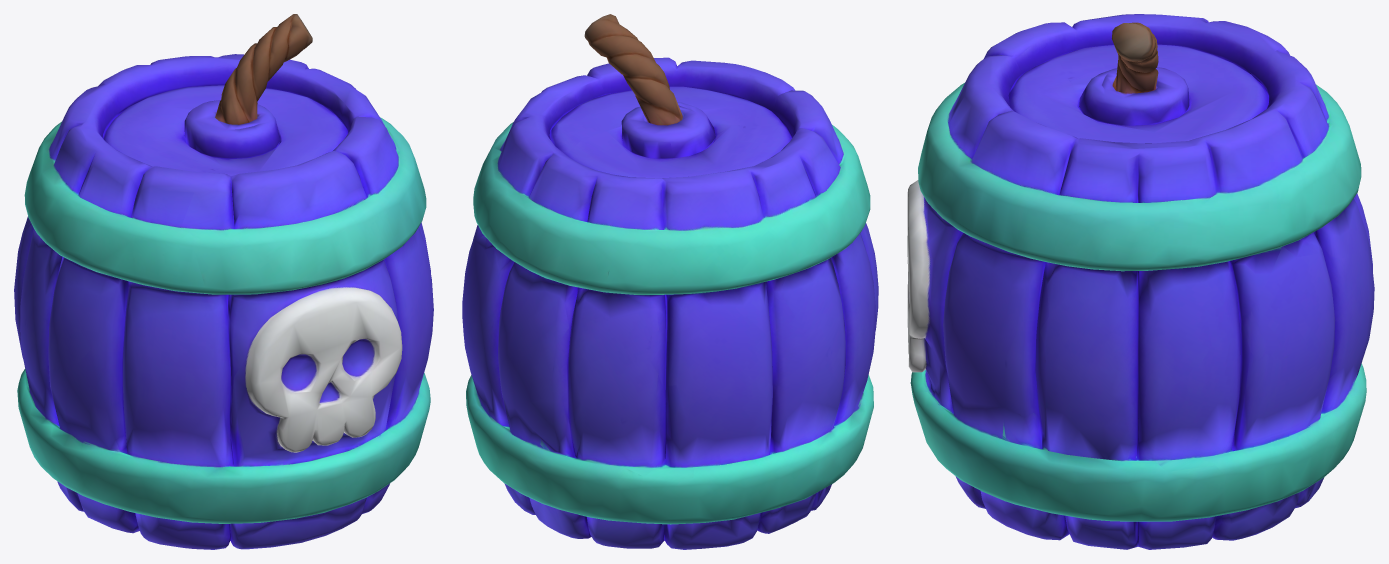
Rendered from keg.glb.
3 renders of one model, left to right at view 1: azimuth 30°, elevation 25°; view 2: azimuth 150°, elevation 25°; view 3: azimuth 270°, elevation 25°, orthographic. The views are drawn at different scales.
Parts seen in each view (by area): view 1: keg; view 2: keg; view 3: keg.
Part boxes in pixels (<box>): keg: <box>14,14,433,549</box>; keg: <box>462,14,878,549</box>; keg: <box>907,14,1374,549</box>.
Bounding box in the file's own units: 1.39 × 1.66 × 1.42.
1 material, 1 textured.
